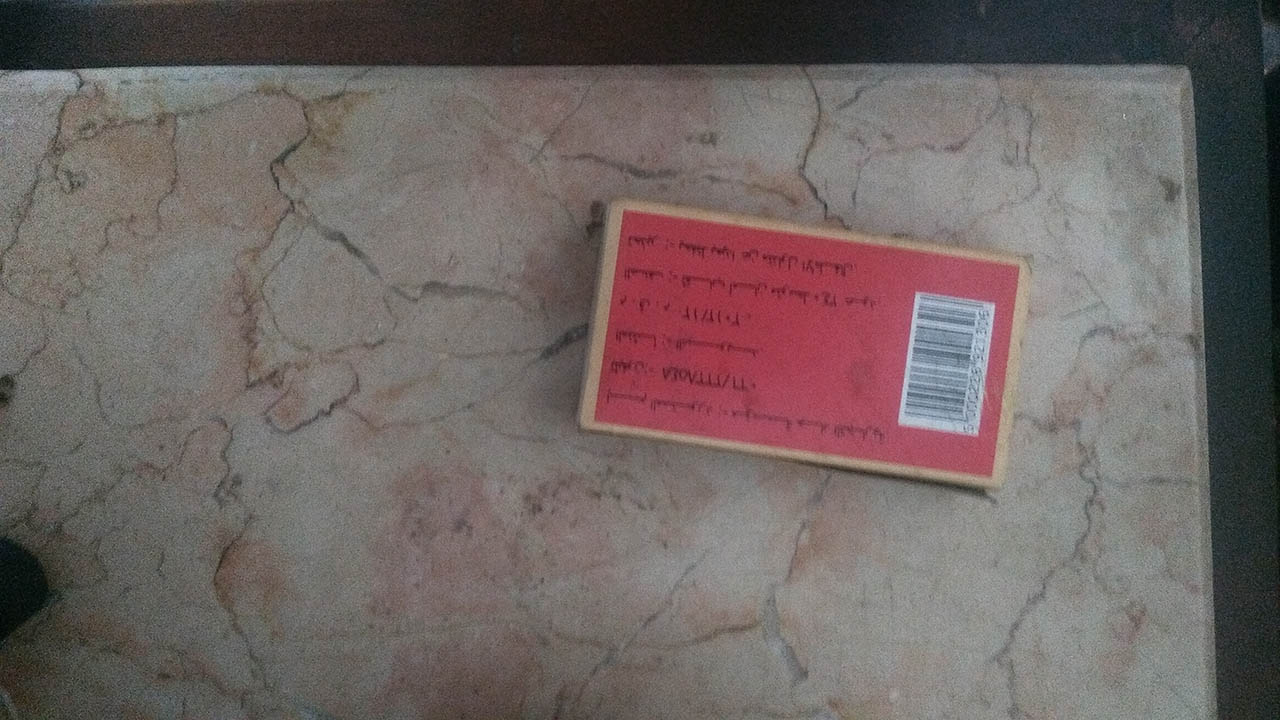match-sticks .90$: (589, 181, 1043, 499)
